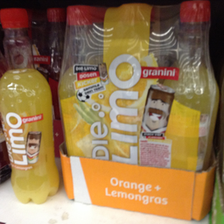soda: (1, 8, 60, 205), (155, 2, 217, 172), (60, 6, 112, 158)
